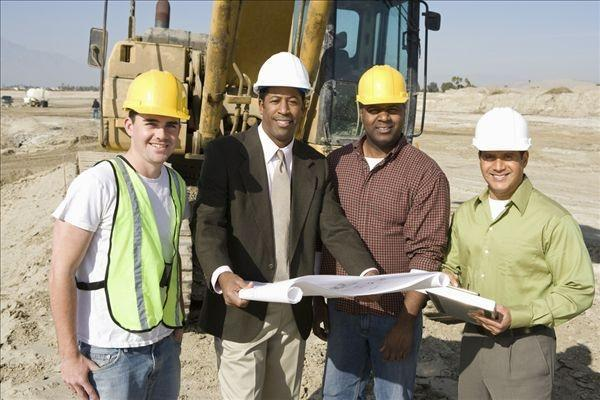helmet: (119, 66, 192, 123), (470, 106, 535, 157), (251, 51, 314, 97), (354, 62, 412, 108)
no-vest: (202, 133, 345, 333), (330, 139, 448, 317), (459, 182, 571, 329)
person: (199, 47, 331, 400), (51, 69, 192, 396), (445, 105, 592, 400), (332, 65, 450, 400)
